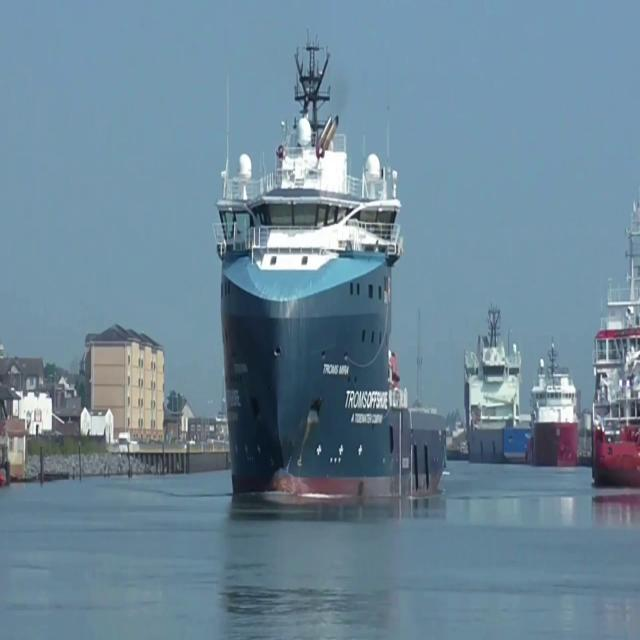OCR: (343, 379, 388, 417)
